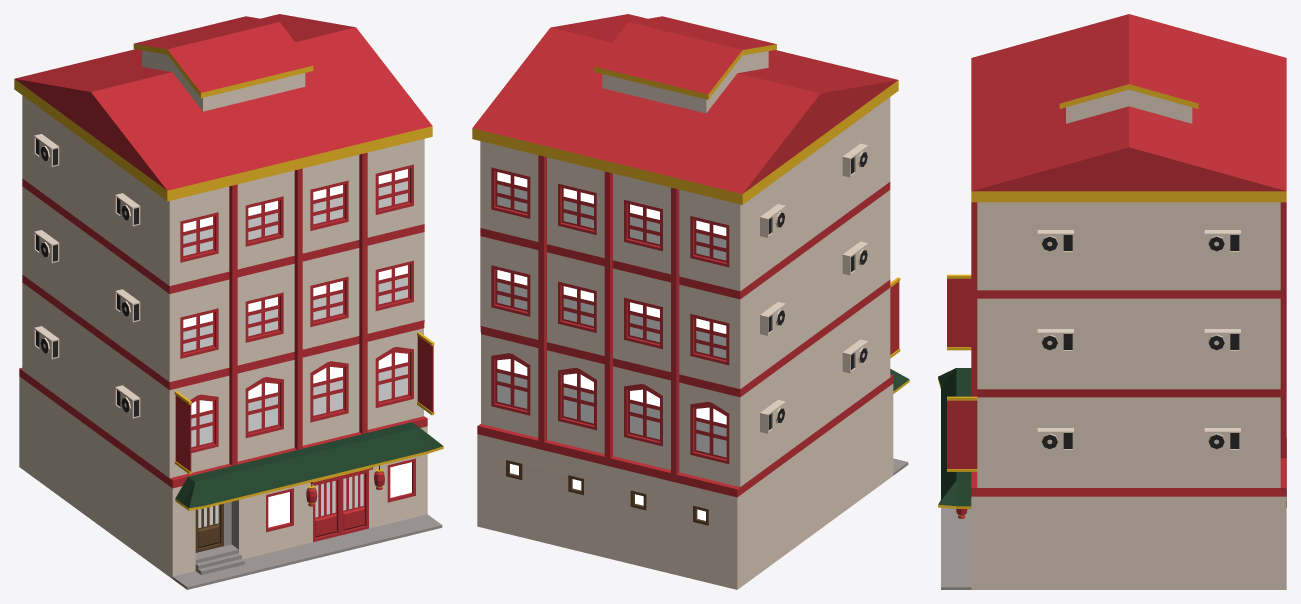
File: buildings-building-apartment-china.glb
The picture shows the model from 3 angles, left to right: view 1: azimuth 30°, elevation 25°; view 2: azimuth 150°, elevation 25°; view 3: azimuth 270°, elevation 25°; orthographic projection. The views are drawn at different scales.
Parts seen in each view (by area): view 1: building-apartment-china; view 2: building-apartment-china; view 3: building-apartment-china.
Part boxes in pixels (x1=…): building-apartment-china: x1=14, y1=14, x2=443, y2=589; building-apartment-china: x1=472, y1=14, x2=909, y2=589; building-apartment-china: x1=938, y1=14, x2=1286, y2=589.
Size of the model in its own units: 10.7 by 17.1 by 11.5.
